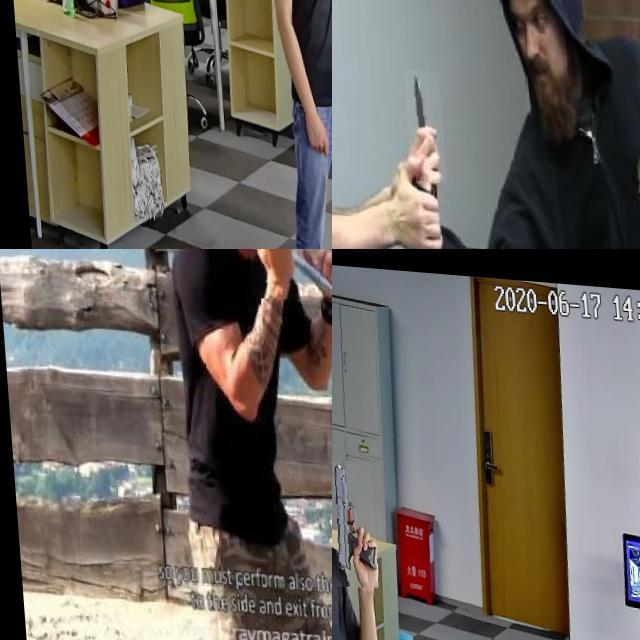-: (400, 63, 442, 177), (243, 249, 332, 297)
gun-knife-thesis - v11 Yolov5 augmented: (332, 454, 375, 584)
